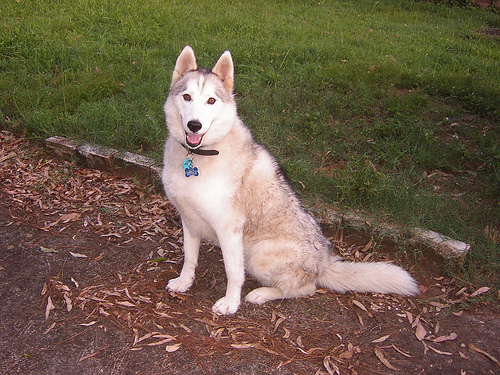dog: (157, 42, 418, 317)
